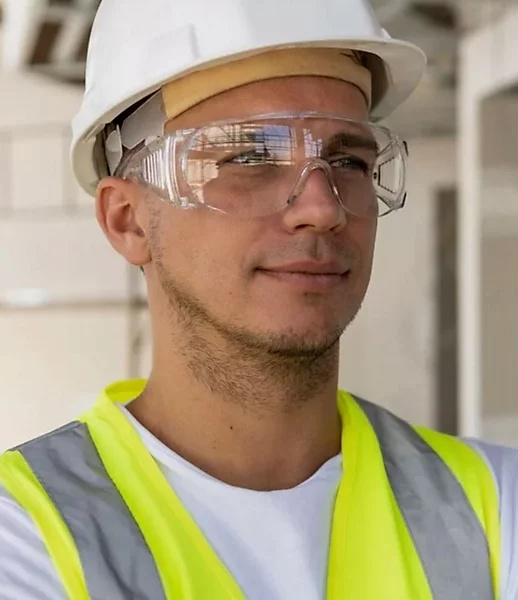safety_goggles: (46, 87, 447, 245)
